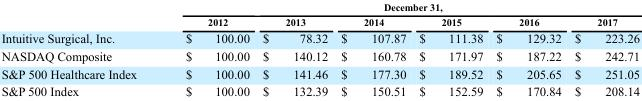table: (0, 1, 639, 98)
table column: (0, 1, 160, 98), (160, 1, 255, 98), (333, 1, 412, 98), (255, 1, 333, 98), (489, 1, 567, 98), (412, 1, 489, 98), (567, 1, 639, 98)
table column header: (0, 1, 639, 29)
table row: (0, 46, 639, 64), (0, 64, 639, 82), (0, 29, 639, 46), (0, 82, 639, 98), (0, 14, 639, 29), (0, 1, 639, 14)
table spanning cell: (160, 1, 639, 14)
